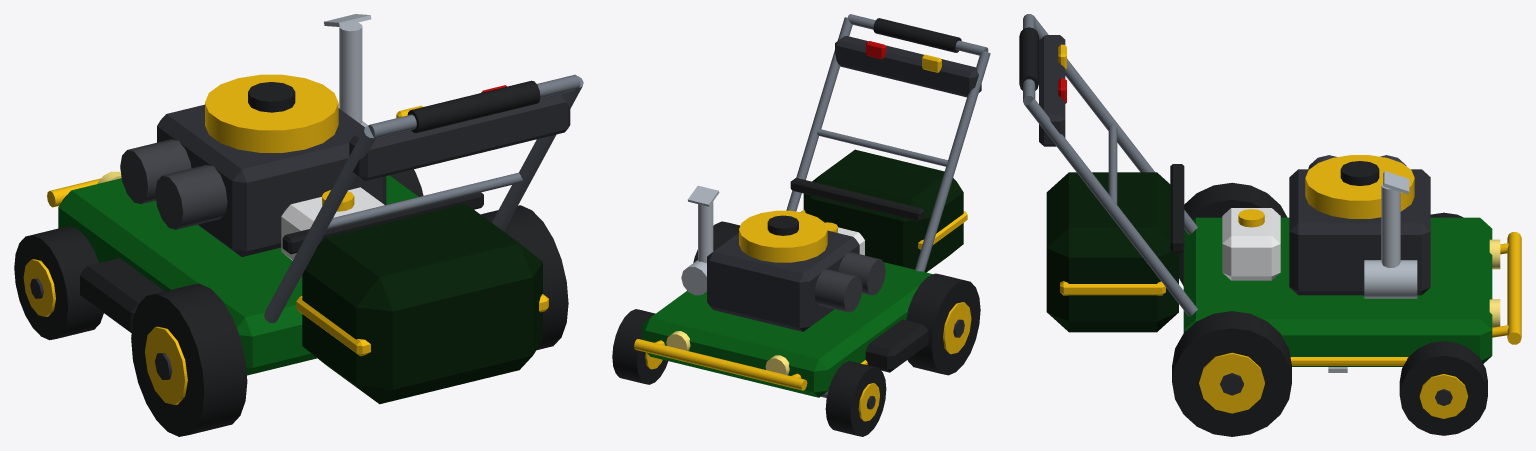
Rendered from mower_pro.fbx.
The picture shows the model from 3 angles, left to right: view 1: azimuth 30°, elevation 25°; view 2: azimuth 150°, elevation 25°; view 3: azimuth 270°, elevation 25°; orthographic projection. The views are drawn at different scales.
Visible parts, largest first — view 1: Body, Wheel_RL, Wheel_FL, Wheel_RR; view 2: Body, Wheel_RL, Wheel_FL, Wheel_FR, Wheel_RR; view 3: Body, Wheel_RR, Wheel_FR, Wheel_RL.
Part boxes in pixels (left/top/right/bottom): Body: left=47, top=14, right=583, bottom=404; Wheel_RL: left=131, top=283, right=247, bottom=436; Wheel_FL: left=14, top=226, right=103, bottom=340; Wheel_RR: left=481, top=205, right=568, bottom=349; Body: left=634, top=14, right=990, bottom=397; Wheel_RL: left=906, top=273, right=980, bottom=375; Wheel_FL: left=825, top=361, right=886, bottom=436; Wheel_FR: left=612, top=309, right=668, bottom=384; Wheel_RR: left=693, top=221, right=739, bottom=262; Body: left=1019, top=14, right=1521, bottom=366; Wheel_RR: left=1172, top=311, right=1291, bottom=436; Wheel_FR: left=1399, top=341, right=1487, bottom=435; Wheel_RL: left=1179, top=182, right=1287, bottom=285.
Bounding box in the file's own units: 4.02 × 3.91 × 5.69.
